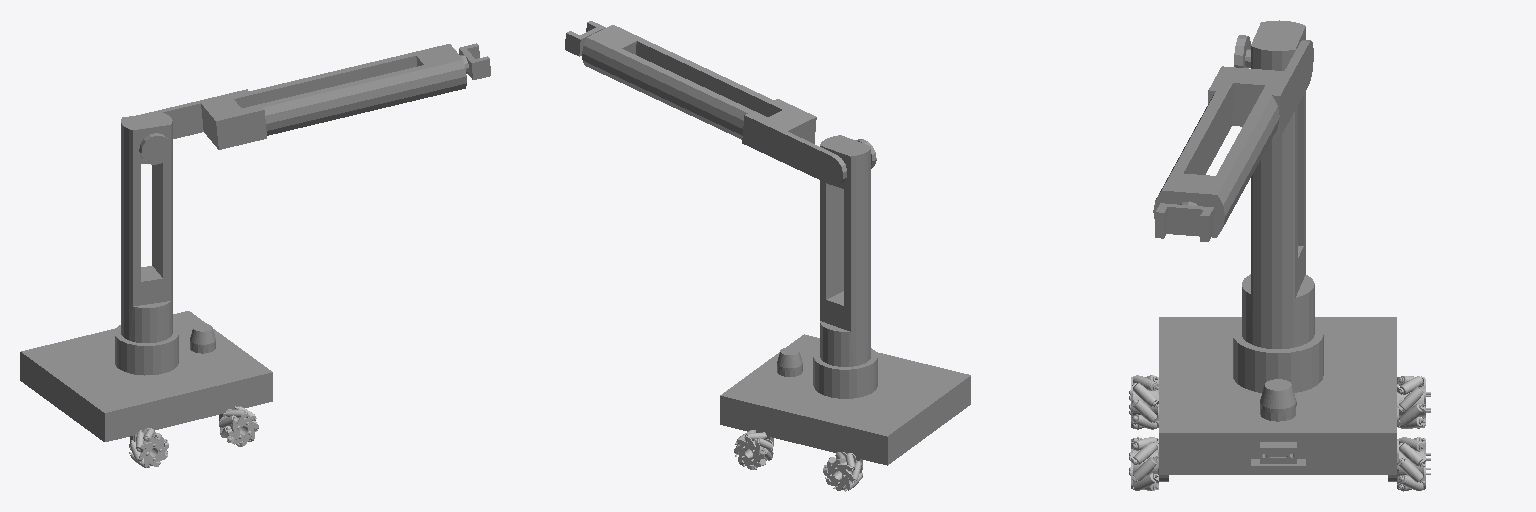
robot.urdf — Xe:
<robot name="Xe">

  <link name="base_link">
    <inertial>
      <origin xyz="-0.000784393198535627 -1.11022302462516E-16 0.0279165463037664" rpy="0 0 0" />
      <mass value="4.23084897633117" />
      <inertia ixx="0.0245471547333712" ixy="-4.26141201216309E-18" ixz="-4.61018337662893E-05" iyy="0.0308610067197859" iyz="-1.98132816756512E-19" izz="0.0521896371680893" />
    </inertial>
    <visual>
      <origin xyz="0 0 0" rpy="0 0 0" />
      <geometry>
        <mesh filename="package://Xe/meshes/base_link.STL" />
      </geometry>
      <material name="">
        <color rgba="0.627450980392157 0.627450980392157 0.627450980392157 1" />
      </material>
    </visual>
    <collision>
      <origin xyz="0 0 0.05" rpy="0 0 0" />
      <geometry>
        <box size="0.25 0.15 0.1" />
      </geometry>
    </collision>
  </link>

  <link name="Camera">
    <inertial>
      <origin xyz="0.00988056013799232 0 0" rpy="0 0 0" />
      <mass value="0.0150153319284327" />
      <inertia ixx="0.001" ixy="0" ixz="0" iyy="0.001" iyz="0" izz="0.001" />
    </inertial>
    <visual>
      <origin xyz="0 0 0" rpy="0 0 0" />
      <geometry>
        <mesh filename="package://Xe/meshes/Camera.STL" />
      </geometry>
      <material name="">
        <color rgba="0.627450980392157 0.627450980392157 0.627450980392157 1" />
      </material>
    </visual>
    <collision>
      <origin xyz="0 0 0" rpy="0 0 0" />
      <geometry>
        <mesh filename="package://Xe/meshes/Camera.STL" />
      </geometry>
    </collision>
  </link>
  <joint name="Cam_joint" type="fixed">
    <origin xyz="0.135 0 0.025" rpy="0 0 0" />
    <parent link="base_link" />
    <child link="Camera" />
    <axis xyz="0 0 0" />
  </joint>

  <link name="Lidar">
    <inertial>
      <origin xyz="6.61692922676593E-13 6.61470878071668E-13 0.0113601037962268" rpy="0 0 0" />
      <mass value="0.0252636412990468" />
      <inertia ixx="0.001" ixy="0" ixz="0" iyy="0.001" iyz="0" izz="0.001" />
    </inertial>
    <visual>
      <origin xyz="0 0 0" rpy="0 0 0" />
      <geometry>
        <mesh filename="package://Xe/meshes/Lidar.STL" />
      </geometry>
      <material name="">
        <color rgba="0.627450980392157 0.627450980392157 0.627450980392157 1" />
      </material>
    </visual>
    <collision>
      <origin xyz="0 0 0" rpy="0 0 0" />
      <geometry>
        <mesh filename="package://Xe/meshes/Lidar.STL" />
      </geometry>
    </collision>
  </link>
  <joint name="Lidar_joint" type="fixed">
    <origin xyz="0.100000001490115 0 0.0599999999999999" rpy="0 0 0" />
    <parent link="base_link" />
    <child link="Lidar" />
    <axis xyz="0 0 0" />
  </joint>

  <link name="Link1">
    <inertial>
      <origin xyz="8.88178419700125E-16 3.33066907387547E-16 0.164175238707857" rpy="0 0 0" />
      <mass value="0.1" />
      <inertia ixx="0.001" ixy="0" ixz="0" iyy="0.001" iyz="0" izz="0.001" />
    </inertial>
    <visual>
      <origin xyz="0 0 0" rpy="0 0 0" />
      <geometry>
        <mesh filename="package://Xe/meshes/Link1.STL" />
      </geometry>
      <material name="">
        <color rgba="0.627450980392157 0.627450980392157 0.627450980392157 1" />
      </material>
    </visual>
    <collision>
      <origin xyz="0 0 0" rpy="0 0 0" />
      <geometry>
        <mesh filename="package://Xe/meshes/Link1.STL" />
      </geometry>
    </collision>
  </link>
  <joint name="Link1_joint" type="continuous">
    <origin xyz="0 0 0.0849999999999999" rpy="0 0 0" />
    <parent link="base_link" />
    <child link="Link1" />
    <axis xyz="0 0 -1" />
    <limit lower="-3.14" upper="3.14" effort="1000.0" velocity="1.0" />
    <dynamics damping="1.0" friction="1.0" />
  </joint>

  <link name="Link2">
    <inertial>
      <origin xyz="0.287848884305117 3.41948691584548E-14 0.00123240305635597" rpy="0 0 0" />
      <mass value="0.1" />
      <inertia ixx="0.001" ixy="0" ixz="0" iyy="0.001" iyz="0" izz="0.001" />
    </inertial>
    <visual>
      <origin xyz="0 0 0" rpy="0 0 0" />
      <geometry>
        <mesh filename="package://Xe/meshes/Link2.STL" />
      </geometry>
      <material name="">
        <color rgba="0.627450980392157 0.627450980392157 0.627450980392157 1" />
      </material>
    </visual>
    <collision>
      <origin xyz="0 0 0" rpy="0 0 0" />
      <geometry>
        <mesh filename="package://Xe/meshes/Link2.STL" />
      </geometry>
    </collision>
  </link>
  <joint name="Link2_joint" type="revolute">
    <origin xyz="-0.00091106 -0.0049163 0.345" rpy="-1.5708 -0.092312 -0.18324" />
    <parent link="Link1" />
    <child link="Link2" />
    <axis xyz="0 0 1" />
    <limit lower="-5" upper="1.0" effort="1000.0" velocity="1.0" />
    <dynamics damping="1.0" friction="1.0" />
  </joint>

  <link name="Banhtraitruoc">
    <inertial>
      <origin xyz="0 0 0" rpy="0 0 0" />
      <mass value="0.5" />
      <inertia ixx="0.005" ixy="0" ixz="0" iyy="0.005" iyz="0" izz="0.005" />
    </inertial>
    <visual>
      <origin xyz="0 0 0" rpy="0 0 0" />
      <geometry>
        <mesh filename="package://Xe/meshes/Banhtraitruoc.STL" />
      </geometry>
      <material name="">
        <color rgba="0.752941176470588 0.752941176470588 0.752941176470588 1" />
      </material>
    </visual>
    <collision>
      <origin xyz="0 0 0" rpy="1.5708 0 0" />
      <geometry>
        <cylinder radius="0.03" length="0.04" />
      </geometry>
    </collision>
  </link>
  <joint name="Banhtraitruoc_joint" type="continuous">
    <origin xyz="0.08 0.14575 -0.02" rpy="0 0 0" />
    <parent link="base_link" />
    <child link="Banhtraitruoc" />
    <axis xyz="0 -1 0" />
    <dynamics damping="0.2" friction="0.2" />
  </joint>

  <link name="Banhsautrai">
    <inertial>
      <origin xyz="0 0 0" rpy="0 0 0" />
      <mass value="0.5" />
      <inertia ixx="0.005" ixy="0" ixz="0" iyy="0.005" iyz="0" izz="0.005" />
    </inertial>
    <visual>
      <origin xyz="0 0 0" rpy="0 0 0" />
      <geometry>
        <mesh filename="package://Xe/meshes/Banhsautrai.STL" />
      </geometry>
      <material name="">
        <color rgba="0.752941176470588 0.752941176470588 0.752941176470588 1" />
      </material>
    </visual>
    <collision>
      <origin xyz="0 0 0" rpy="1.5708 0 0" />
      <geometry>
        <cylinder radius="0.03" length="0.04" />
      </geometry>
    </collision>
  </link>
  <joint name="Banhsautrai_joint" type="continuous">
    <origin xyz="-0.08 0.13 -0.02" rpy="0 0 0" />
    <parent link="base_link" />
    <child link="Banhsautrai" />
    <axis xyz="0 1 0" />
    <dynamics damping="0.2" friction="0.2" />
  </joint>

  <link name="Banhtruocphai">
    <inertial>
      <origin xyz="0 0 0" rpy="0 0 0" />
      <mass value="0.5" />
      <inertia ixx="0.005" ixy="0" ixz="0" iyy="0.005" iyz="0" izz="0.005" />
    </inertial>
    <visual>
      <origin xyz="0 0 0" rpy="0 0 0" />
      <geometry>
        <mesh filename="package://Xe/meshes/Banhtruocphai.STL" />
      </geometry>
      <material name="">
        <color rgba="0.752941176470588 0.752941176470588 0.752941176470588 1" />
      </material>
    </visual>
    <collision>
      <origin xyz="0 0 0" rpy="1.5708 0 0" />
      <geometry>
        <cylinder radius="0.03" length="0.04" />
      </geometry>
    </collision>
  </link>
  <joint name="Banhtruocphai_joint" type="continuous">
    <origin xyz="0.08 -0.13 -0.02" rpy="0 0 0" />
    <parent link="base_link" />
    <child link="Banhtruocphai" />
    <axis xyz="0 1 0" />
    <dynamics damping="0.2" friction="0.2" />
  </joint>

  <link name="Banhsauphai">
    <inertial>
      <origin xyz="0 0 0" rpy="0 0 0" />
      <mass value="0.5" />
      <inertia ixx="0.005" ixy="0" ixz="0" iyy="0.005" iyz="0" izz="0.005" />
    </inertial>
    <visual>
      <origin xyz="0 0 0" rpy="0 0 0" />
      <geometry>
        <mesh filename="package://Xe/meshes/Banhsauphai.STL" />
      </geometry>
      <material name="">
        <color rgba="0.752941176470588 0.752941176470588 0.752941176470588 1" />
      </material>
    </visual>
    <collision>
      <origin xyz="0 0 0" rpy="1.5708 0 0" />
      <geometry>
        <cylinder radius="0.03" length="0.04" />
      </geometry>
    </collision>
  </link>
  <joint name="Banhsauphai_joint" type="continuous">
    <origin xyz="-0.08 -0.13 -0.02" rpy="0 0 0" />
    <parent link="base_link" />
    <child link="Banhsauphai" />
    <axis xyz="0 -1 0" />
    <dynamics damping="0.2" friction="0.2" />
  </joint>

  <gazebo reference="Banhtraitruoc">
    <mu1>0.15</mu1>
    <mu2>0.15</mu2>
    <kp>1000000.0</kp>
    <kd>100.0</kd>
  </gazebo>
  
  <gazebo reference="Banhsautrai">
    <mu1>0.15</mu1>
    <mu2>0.15</mu2>
    <kp>1000000.0</kp>
    <kd>100.0</kd>
  </gazebo>
  
  <gazebo reference="Banhtruocphai">
    <mu1>0.15</mu1>
    <mu2>0.15</mu2>
    <kp>1000000.0</kp>
    <kd>100.0</kd>
  </gazebo>
  
  <gazebo reference="Banhsauphai">
    <mu1>0.15</mu1>
    <mu2>0.15</mu2>
    <kp>1000000.0</kp>
    <kd>100.0</kd>
  </gazebo>

  <gazebo>
    <plugin name="omni_steering" filename="libgazebo_ros_planar_move.so">
      <ros>
        <remapping>cmd_vel:=cmd_vel</remapping>
        <remapping>odom:=odom</remapping>
      </ros>
      <update_rate>50.0</update_rate>
      <publish_rate>50.0</publish_rate>
      <publish_odom>true</publish_odom>
      <publish_odom_tf>true</publish_odom_tf>
      <odometry_frame>odom</odometry_frame>
      <robot_base_frame>base_link</robot_base_frame>
    </plugin>
  </gazebo>

  <gazebo reference="Lidar">
    <sensor name="lidar" type="ray">
      <always_on>true</always_on>
      <visualize>true</visualize>
      <update_rate>10</update_rate>
      <ray>
        <scan>
          <horizontal>
            <samples>360</samples>
            <resolution>1.0</resolution>
            <min_angle>0.0</min_angle>
            <max_angle>6.28</max_angle>
          </horizontal>
        </scan>
        <range>
          <min>0.15</min>
          <max>12.0</max>
        </range>
      </ray>
      <plugin name="scan" filename="libgazebo_ros_ray_sensor.so">
        <ros>
          <remapping>~/out:=/scan</remapping>
        </ros>
        <output_type>sensor_msgs/LaserScan</output_type>
        <frame_name>Lidar</frame_name>
      </plugin>
    </sensor>
  </gazebo>

  <gazebo reference="Camera">
    <sensor type="camera" name="cam">
      <always_on>true</always_on>
      <visualize>true</visualize>
      <update_rate>30.0</update_rate>
      <camera name="head">
        <horizontal_fov>1.396</horizontal_fov>
        <image>
          <width>640</width>
          <height>480</height>
          <format>R8G8B8</format>
        </image>
        <clip>
          <near>0.02</near>
          <far>300</far>
        </clip>
      </camera>
      <plugin name="camera_controller" filename="libgazebo_ros_camera.so">
        <namespace>camera</namespace>
        <camera_name>head</camera_name>
        <image_topic_name>image_raw</image_topic_name>
        <camera_info_topic_name>camera_info</camera_info_topic_name>
        <frame_name>Camera</frame_name>
        <hack_baseline>0.07</hack_baseline>
        <distortion_k1>0.0</distortion_k1>
        <distortion_k2>0.0</distortion_k2>
        <distortion_k3>0.0</distortion_k3>
        <distortion_t1>0.0</distortion_t1>
        <distortion_t2>0.0</distortion_t2>
      </plugin>
    </sensor>
  </gazebo>

  <gazebo>
    <plugin name="gazebo_ros_joint_pose_trajectory" filename="libgazebo_ros_joint_pose_trajectory.so">
      <ros>
        <remapping>set_joint_trajectory:=set_joint_trajectory</remapping>
      </ros>
      <update_rate>50.0</update_rate>
    </plugin>
  </gazebo>

  <gazebo>
    <plugin name="gazebo_ros_joint_state_publisher" filename="libgazebo_ros_joint_state_publisher.so">
      <ros>
        <remapping>~/out:=joint_states</remapping>
      </ros>
      <update_rate>50.0</update_rate>
      <joint_name>Link1_joint</joint_name>
      <joint_name>Link2_joint</joint_name>
      <joint_name>Banhtraitruoc_joint</joint_name>
      <joint_name>Banhtruocphai_joint</joint_name>
      <joint_name>Banhsautrai_joint</joint_name>
      <joint_name>Banhsauphai_joint</joint_name>
    </plugin>
  </gazebo>

</robot>

--- Render facts (derived) ---
Views: 3 orthographic renders of the robot side by side, from view 1: azimuth 30°, elevation 25°; view 2: azimuth 150°, elevation 25°; view 3: azimuth 270°, elevation 25°.
Model Xe with 9 links and 8 joints (1 revolute, 5 continuous, 2 fixed), rooted at base_link, posed all joints at 0.
Visible links, largest first — view 1: base_link, Link2, Link1, Banhtruocphai, Banhsauphai; view 2: base_link, Link2, Link1, Banhsautrai, Banhtraitruoc; view 3: base_link, Link1, Link2, Banhtraitruoc, Banhsautrai, Banhsauphai, Banhtruocphai, Lidar, Camera.
Link boxes in pixels (<box>): base_link: <box>20,311,272,450</box>; Link2: <box>139,43,490,164</box>; Link1: <box>121,112,172,342</box>; Banhtruocphai: <box>219,406,258,446</box>; Banhsauphai: <box>129,428,168,467</box>; base_link: <box>720,334,970,472</box>; Link2: <box>565,21,876,185</box>; Link1: <box>820,135,870,366</box>; Banhsautrai: <box>823,452,862,491</box>; Banhtraitruoc: <box>734,430,773,469</box>; base_link: <box>1159,317,1396,481</box>; Link1: <box>1242,20,1314,348</box>; Link2: <box>1153,35,1313,241</box>; Banhtraitruoc: <box>1397,437,1430,491</box>; Banhsautrai: <box>1397,376,1430,428</box>; Banhsauphai: <box>1129,375,1158,429</box>; Banhtruocphai: <box>1129,437,1158,490</box>; Lidar: <box>1260,379,1296,412</box>; Camera: <box>1260,442,1296,463</box>.
Size in the robot's own frame: 0.6973 by 0.3302 by 0.5516 metres.
9 mesh visuals loaded from 9 distinct referenced files (9 binary STL).
